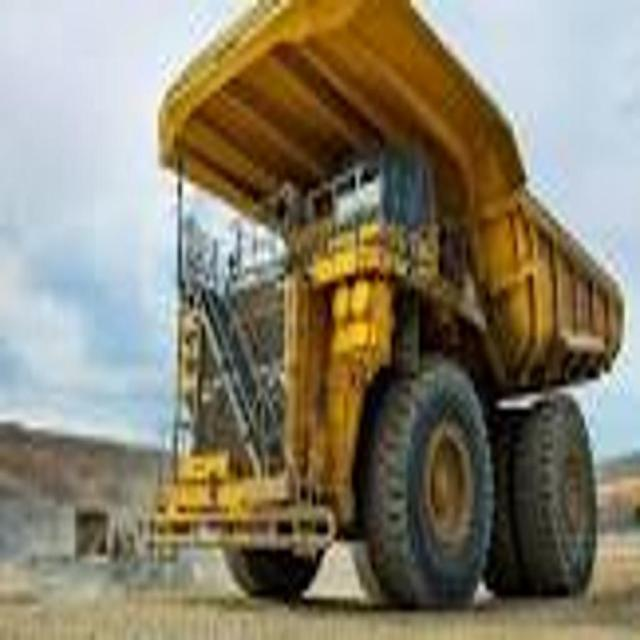dump_truck: (157, 0, 624, 612)
